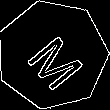M_NE: (18, 21, 87, 88)
